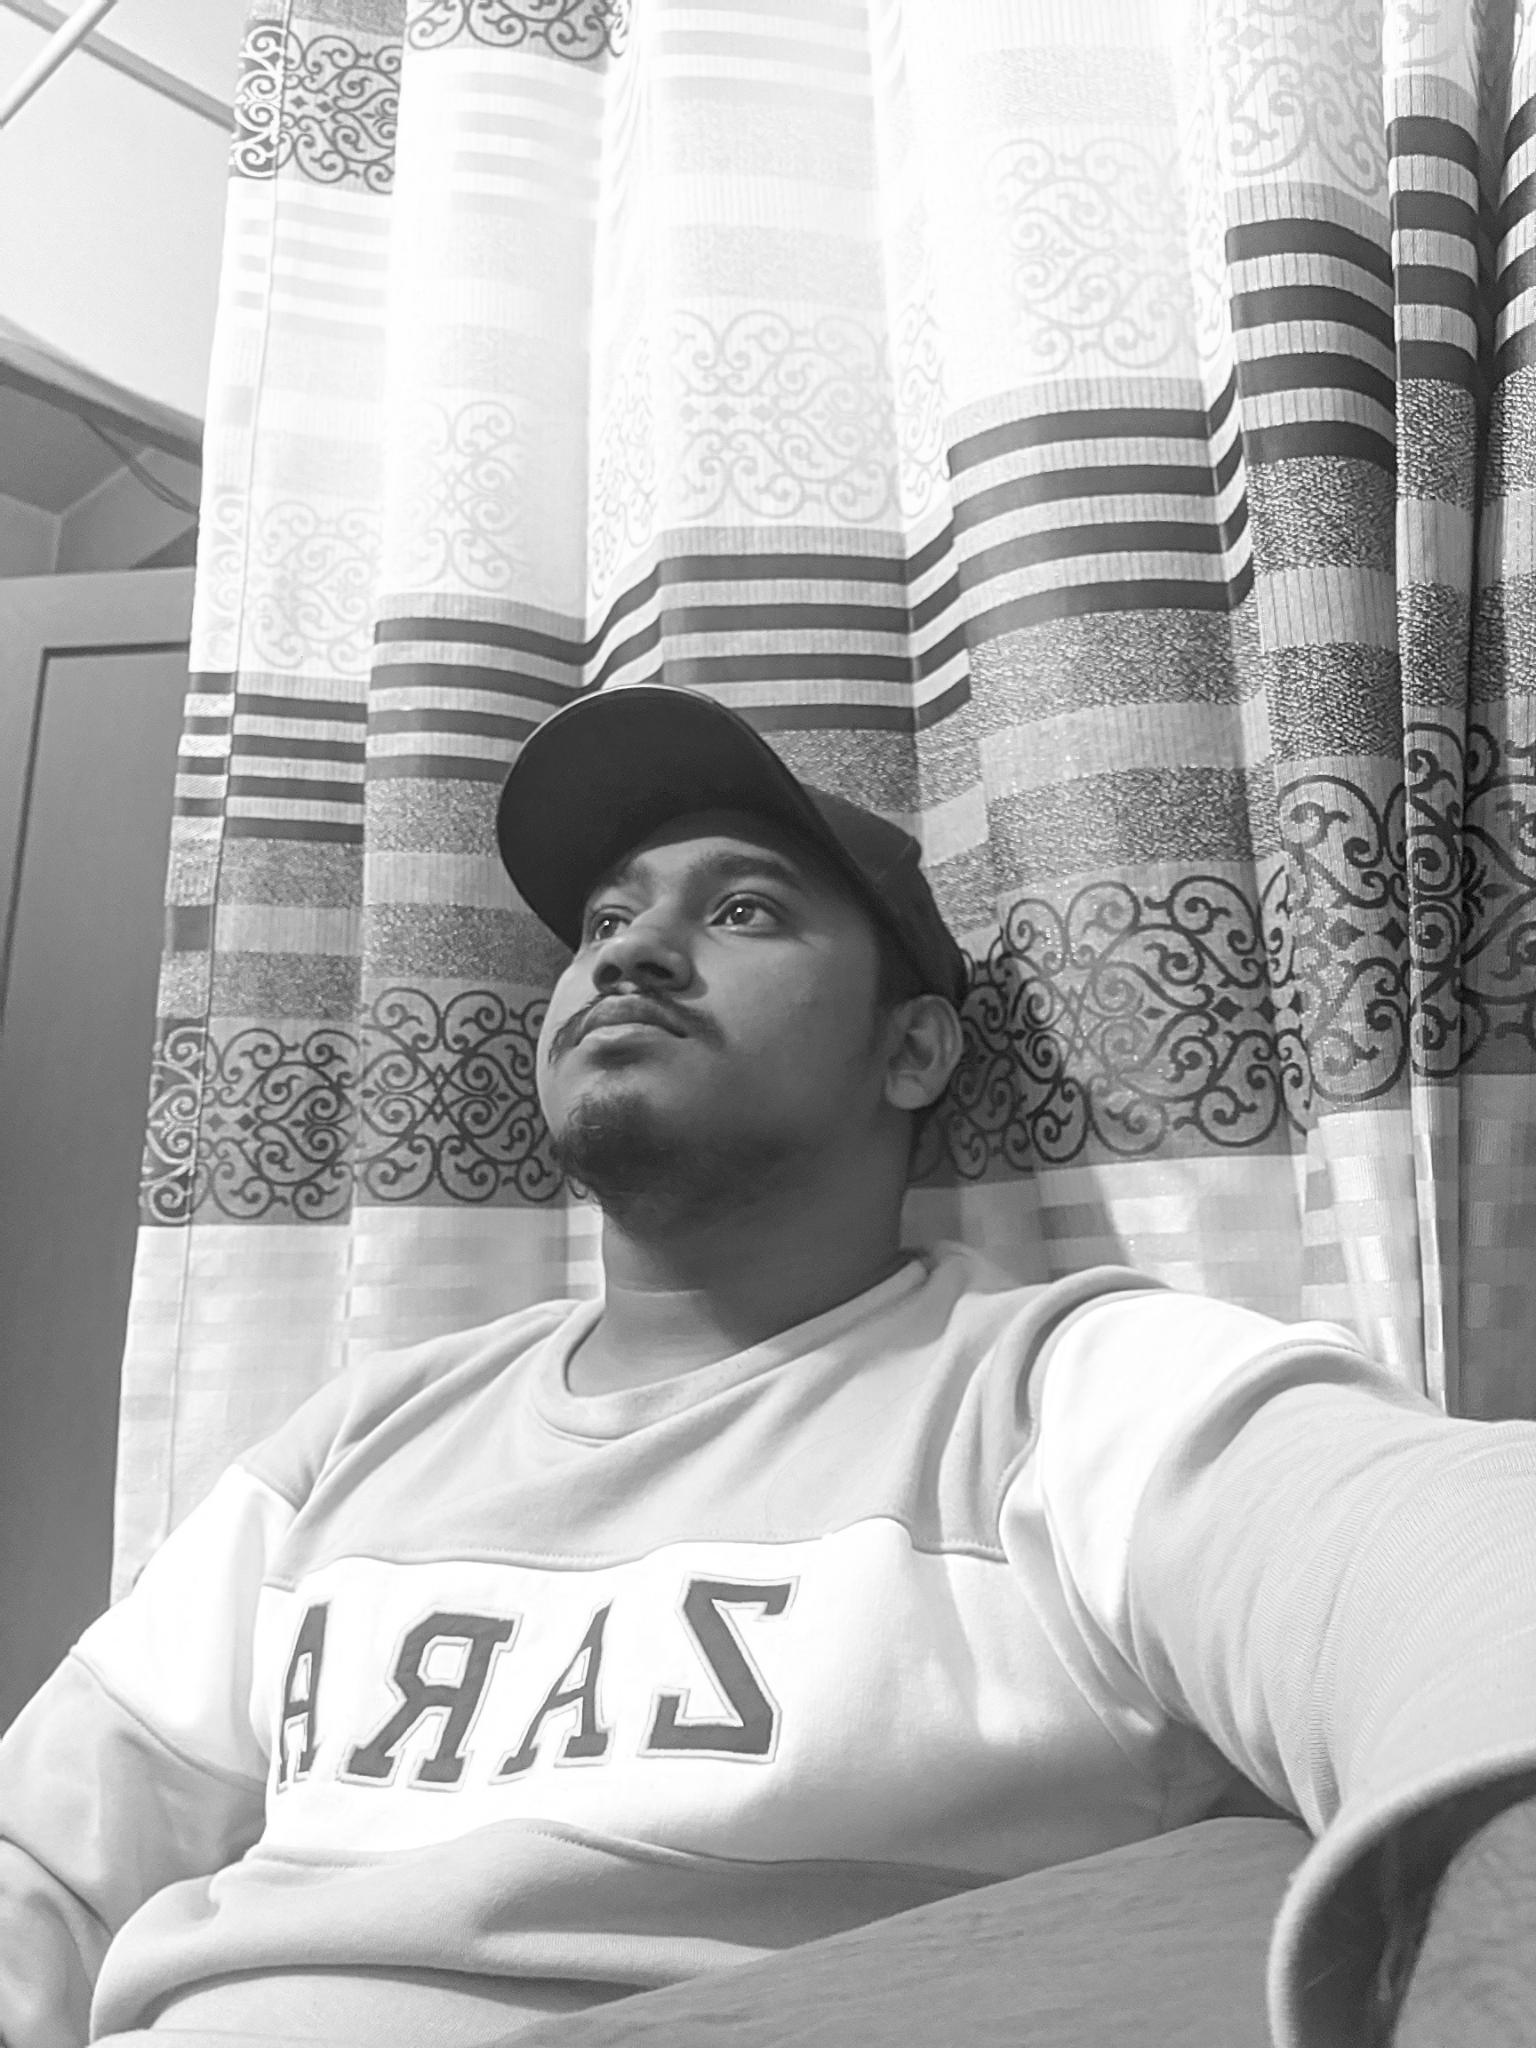Neutral: (486, 827, 852, 1180)
